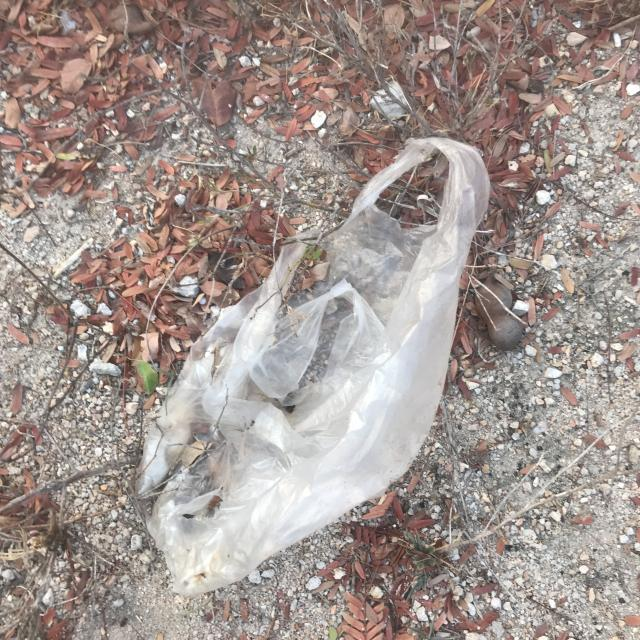Single-layer Plastic: (136, 138, 489, 595)
